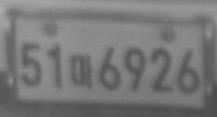1: (45, 44, 66, 87)
2: (150, 47, 175, 92)
5: (20, 41, 42, 86)
6: (177, 49, 200, 94), (99, 46, 120, 89)
9: (124, 46, 147, 91)
마: (70, 53, 96, 90)
